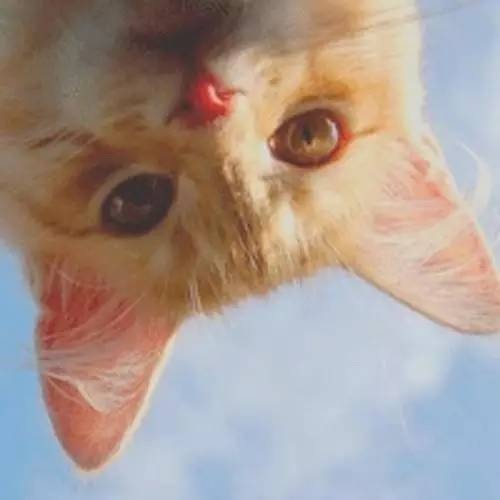cat: (5, 1, 500, 463)
